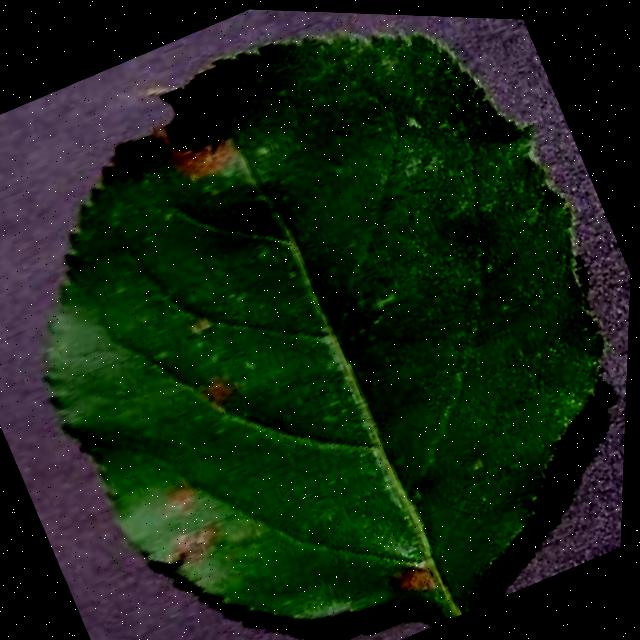black_rot: (75, 42, 283, 234), (152, 506, 251, 594), (144, 452, 229, 527), (380, 537, 463, 609), (187, 347, 263, 424)
